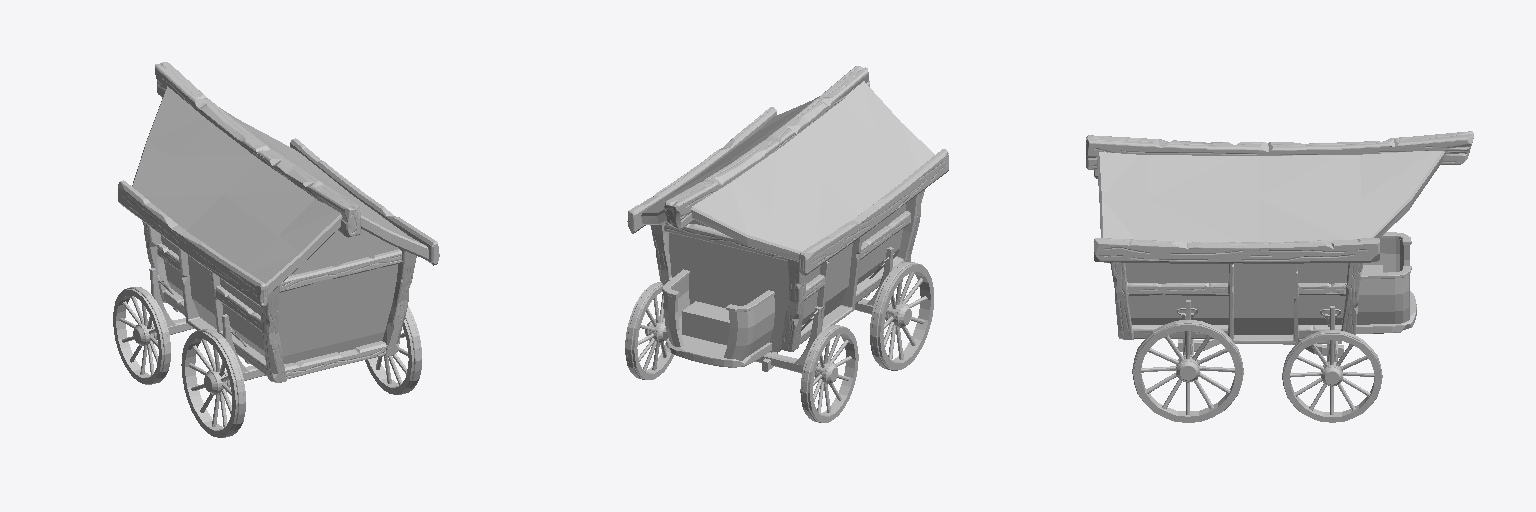
The model's file is Wagon.obj.
3 views of the same model, side by side, from view 1: azimuth 30°, elevation 25°; view 2: azimuth 150°, elevation 25°; view 3: azimuth 270°, elevation 25° (orthographic).
Parts seen in each view (by area): view 1: Wagon1:polySurface2178, Wagon1:polySurface2264, Wagon1:polySurface2224; view 2: Wagon1:polySurface2178, Wagon1:polySurface2264, Wagon1:polySurface2224; view 3: Wagon1:polySurface2178, Wagon1:polySurface2264, Wagon1:polySurface2224.
Part boxes in pixels (bbox=[...]): Wagon1:polySurface2178: bbox=[132, 86, 428, 363]; Wagon1:polySurface2264: bbox=[118, 62, 439, 382]; Wagon1:polySurface2224: bbox=[113, 269, 421, 437]; Wagon1:polySurface2178: bbox=[641, 81, 934, 360]; Wagon1:polySurface2264: bbox=[627, 66, 948, 373]; Wagon1:polySurface2224: bbox=[625, 253, 933, 422]; Wagon1:polySurface2178: bbox=[1097, 146, 1444, 334]; Wagon1:polySurface2264: bbox=[1086, 131, 1473, 361]; Wagon1:polySurface2224: bbox=[1132, 308, 1382, 422].
Bounding box in the file's own units: 306 × 382 × 547.